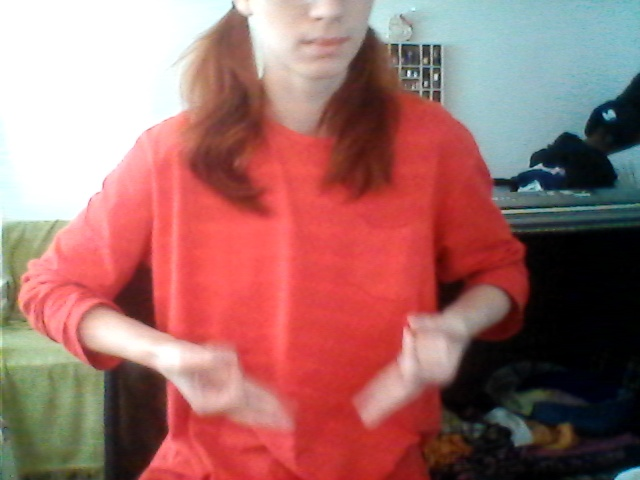preco: (169, 301, 469, 438)
